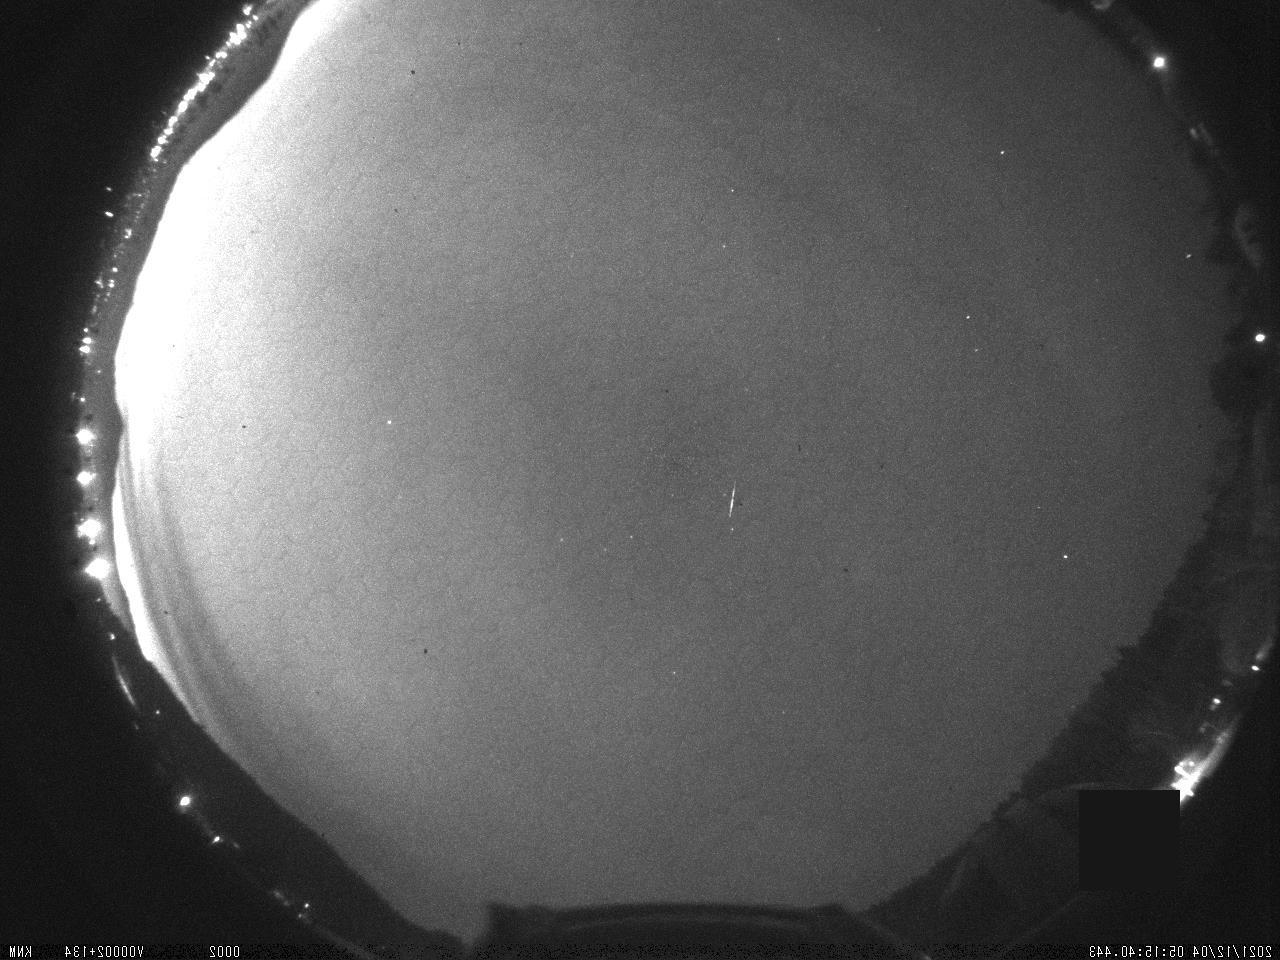meteor: (710, 467, 774, 532)
